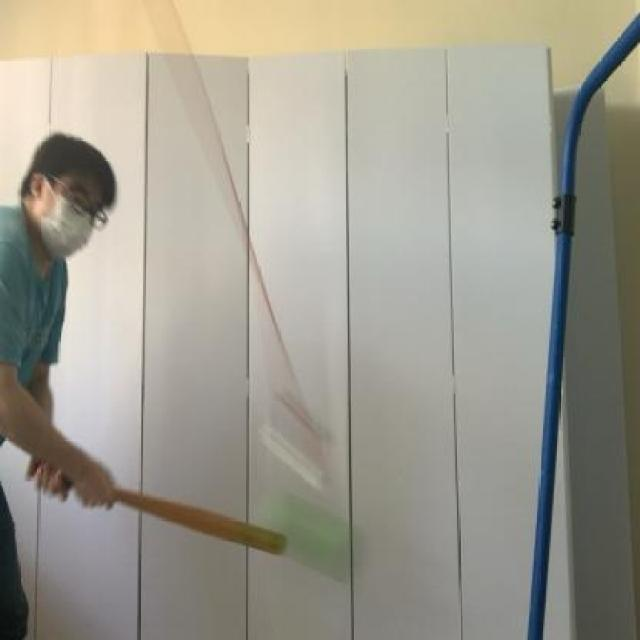baseball: (251, 468, 372, 588)
